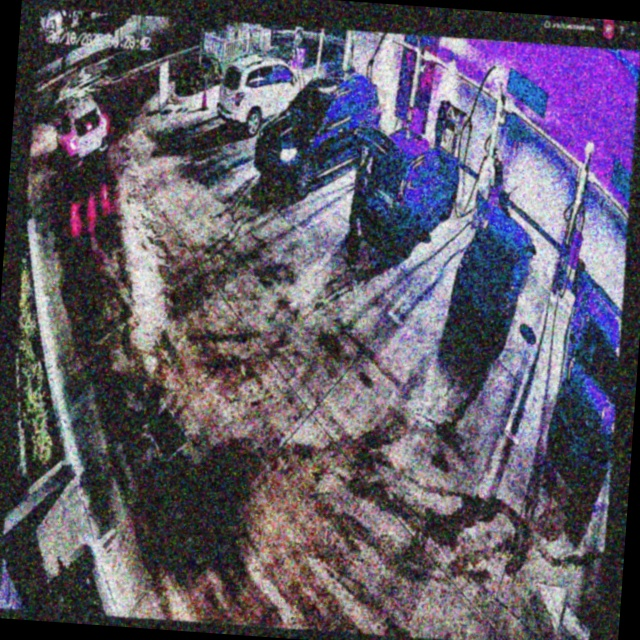Car: (256, 67, 385, 203), (350, 124, 464, 257), (449, 196, 537, 350)
